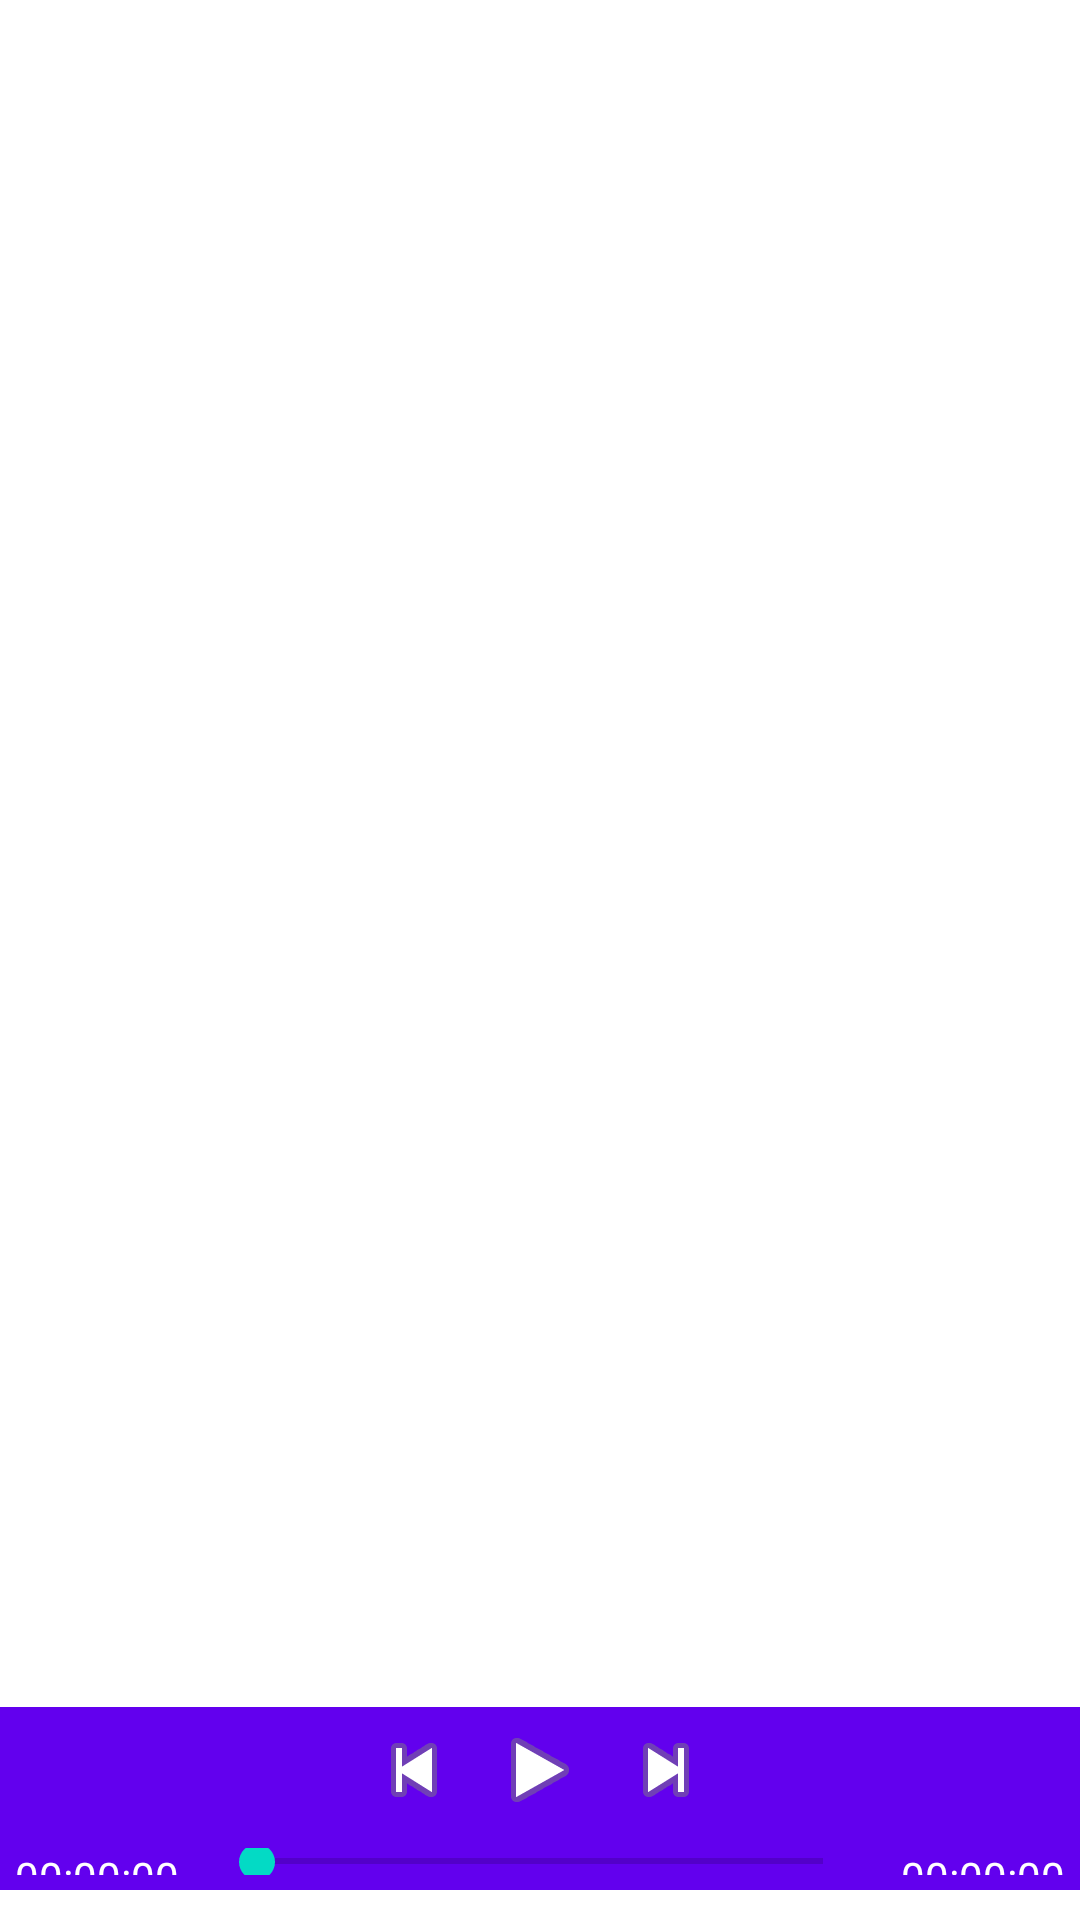

Named icons in this screenshot (1080 x 1920) and their centers, [x,y]:
next: [666,1770]
play: [540,1770]
previous: [414,1770]
